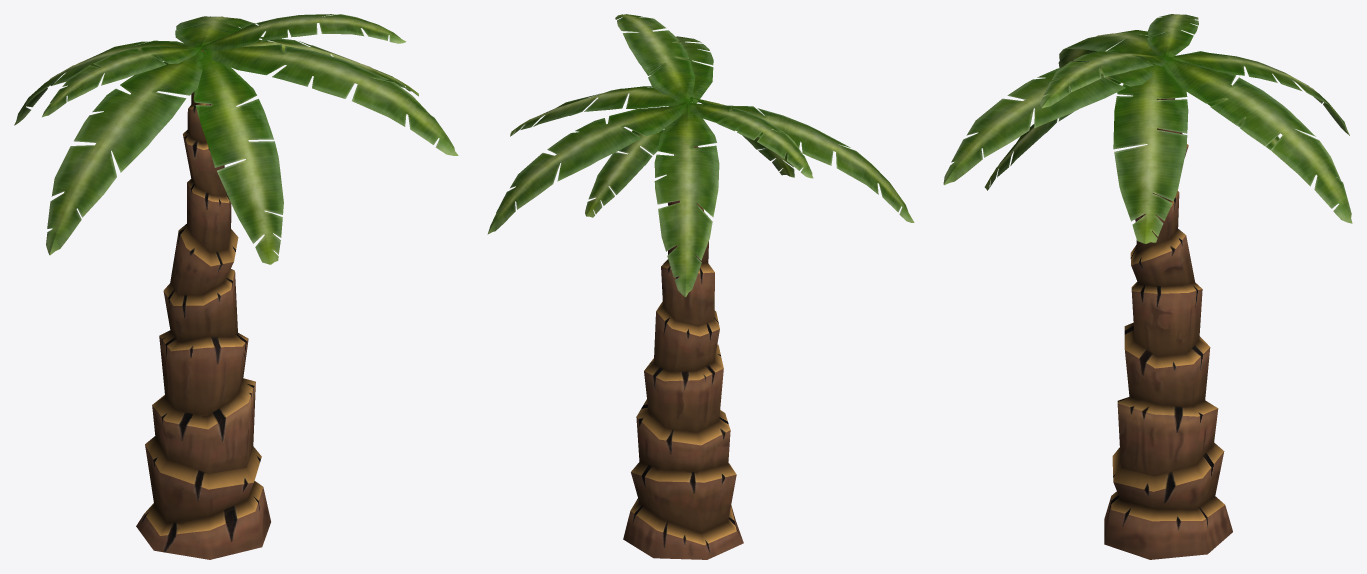
The model's file is palm.fbx.
The picture shows the model from 3 angles, left to right: view 1: azimuth 30°, elevation 25°; view 2: azimuth 150°, elevation 25°; view 3: azimuth 270°, elevation 25°; orthographic projection. The views are drawn at different scales.
Visible parts, largest first — view 1: Palm; view 2: Palm; view 3: Palm.
Part boxes in pixels (box(x1,y1,x2,y2)): Palm: box(14, 14, 458, 559); Palm: box(487, 14, 914, 559); Palm: box(943, 14, 1352, 559).
Size of the model in its own units: 210 by 254 by 186.
